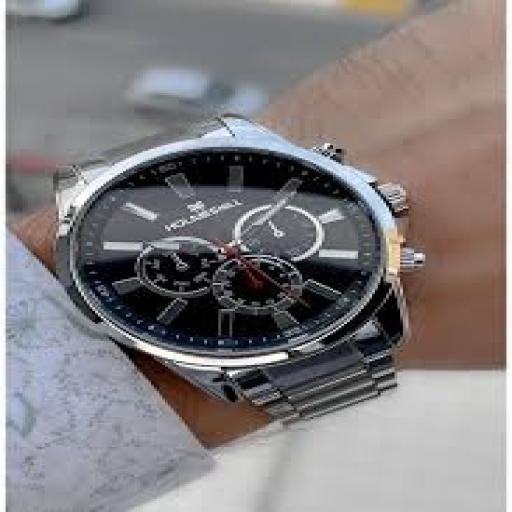KolSaati: (23, 111, 468, 421)
